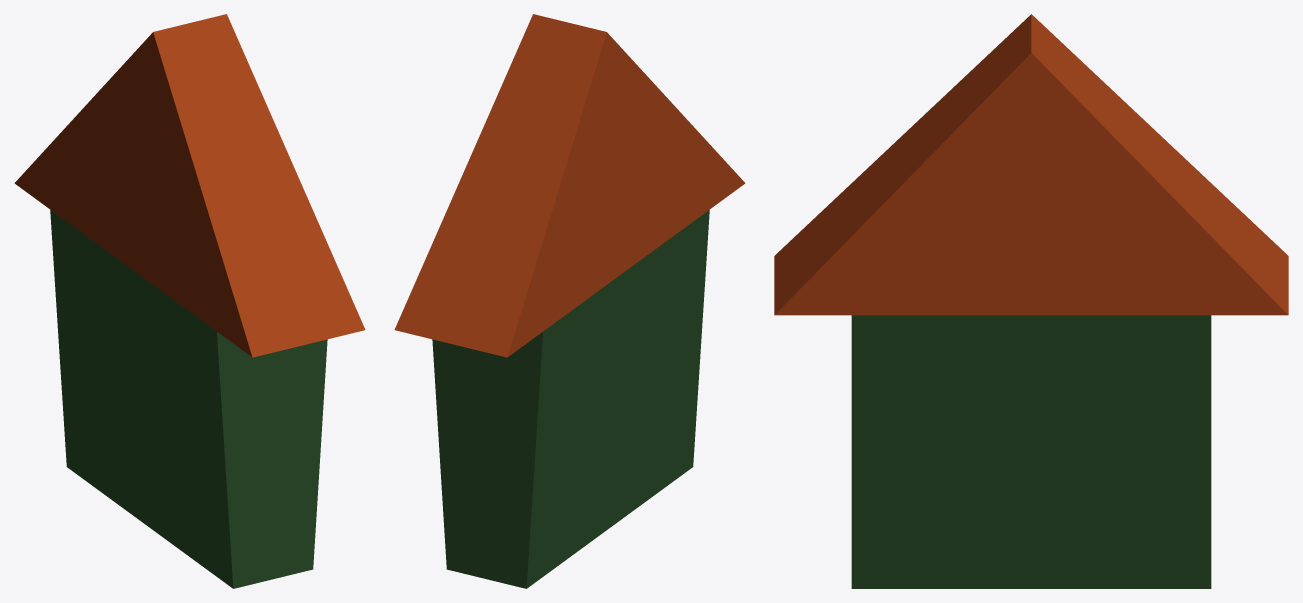
File: House.gltf
3 views of the same model, side by side, from view 1: azimuth 30°, elevation 25°; view 2: azimuth 150°, elevation 25°; view 3: azimuth 270°, elevation 25° (orthographic). The views are drawn at different scales.
Parts seen in each view (by area): view 1: Cube; view 2: Cube; view 3: Cube.
Part boxes in pixels (<box>): Cube: <box>14,14,365,588</box>; Cube: <box>394,14,745,588</box>; Cube: <box>774,14,1288,588</box>.
Bounding box in the file's own units: 0.7832 × 3.28 × 2.86.
